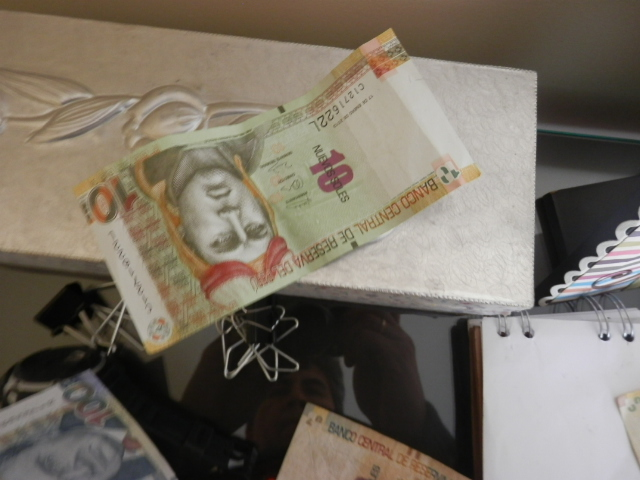B10: (88, 13, 494, 363)
